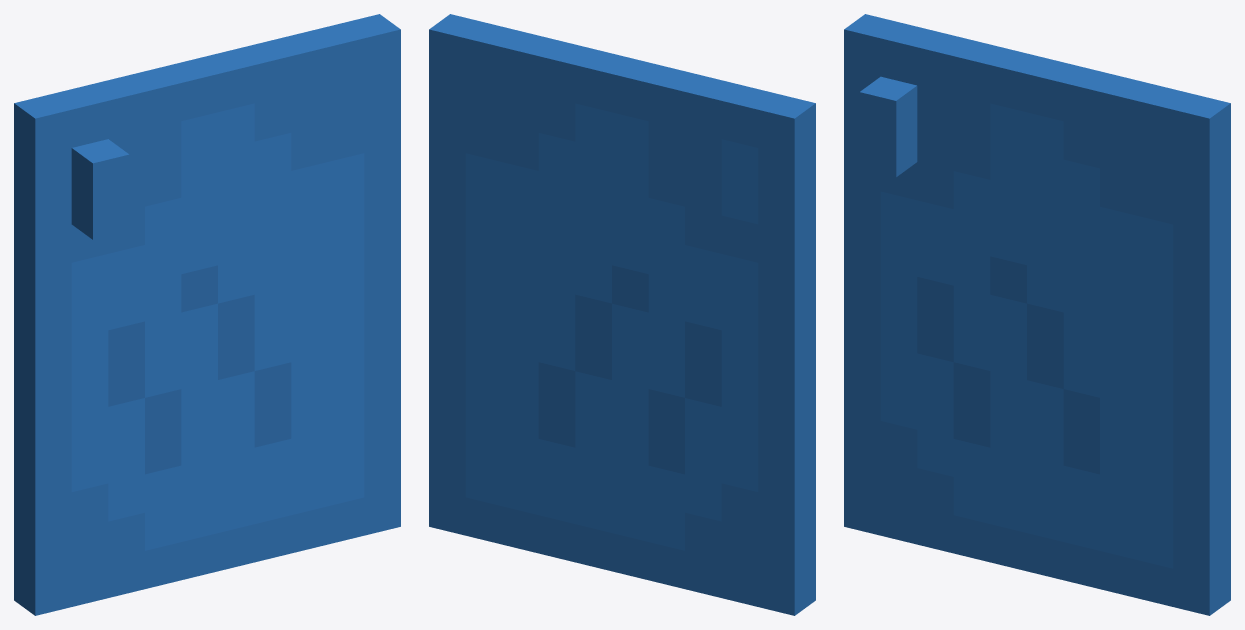
Rendered from Drawer_door_4.obj.
3 views of the same model, side by side, from view 1: azimuth 30°, elevation 25°; view 2: azimuth 150°, elevation 25°; view 3: azimuth 330°, elevation 25° (orthographic).
Bounding box in the file's own units: 1 × 1.3 × 0.2.
